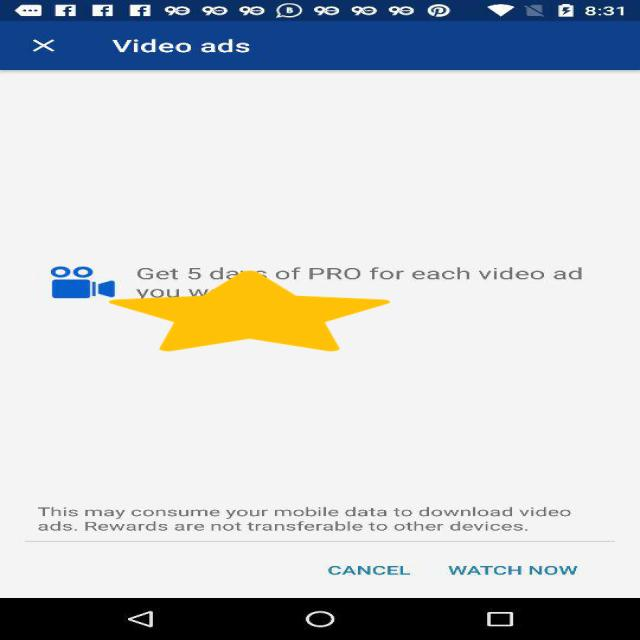forced continuity: (109, 271, 390, 351)
